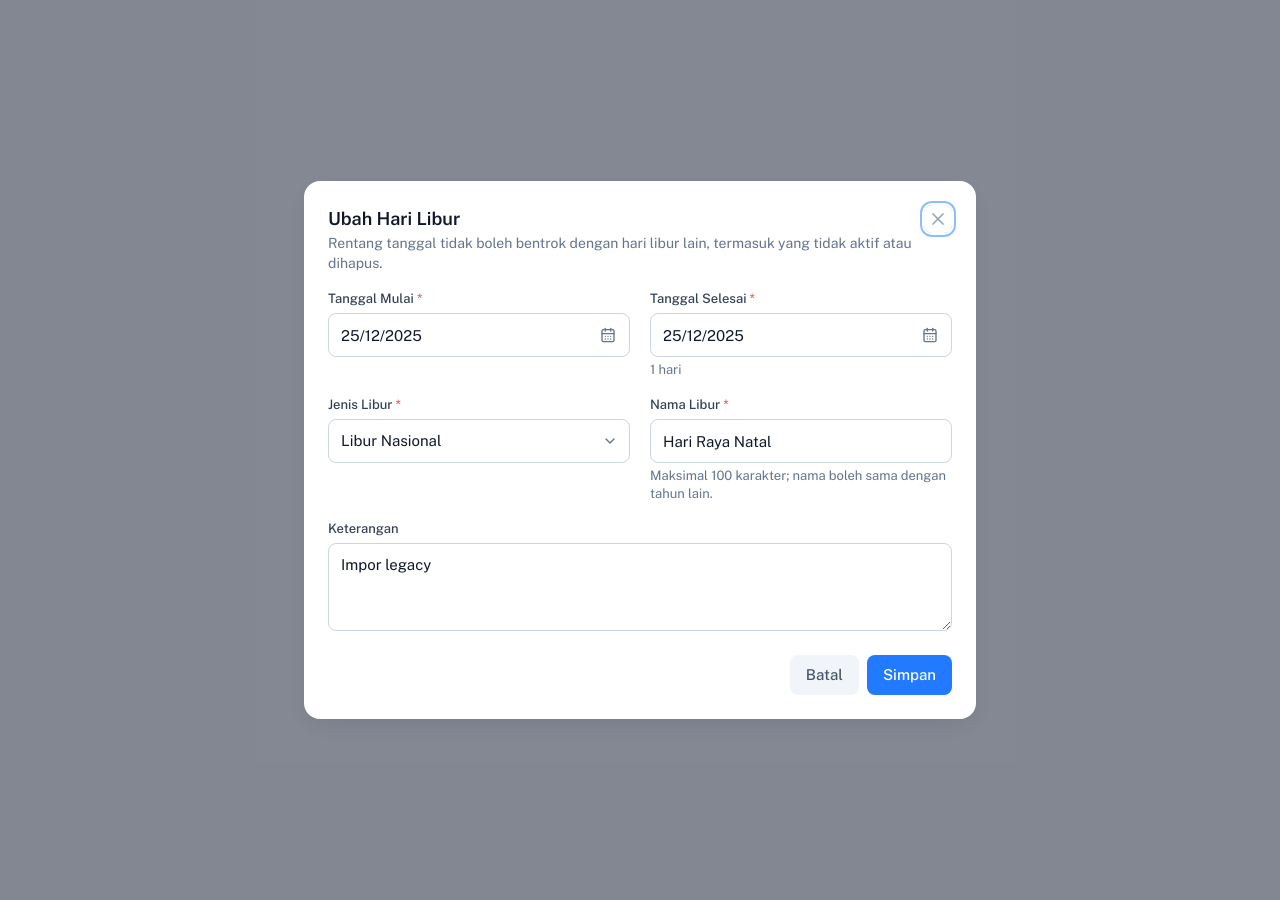
Test: HariLiburFormDialog › klik Simpan beruntun selama validasi masih berjalan: tombol terkunci, update terkirim sekali
Click the submit button at {"x": 909, "y": 675}, box [867,655,952,695]
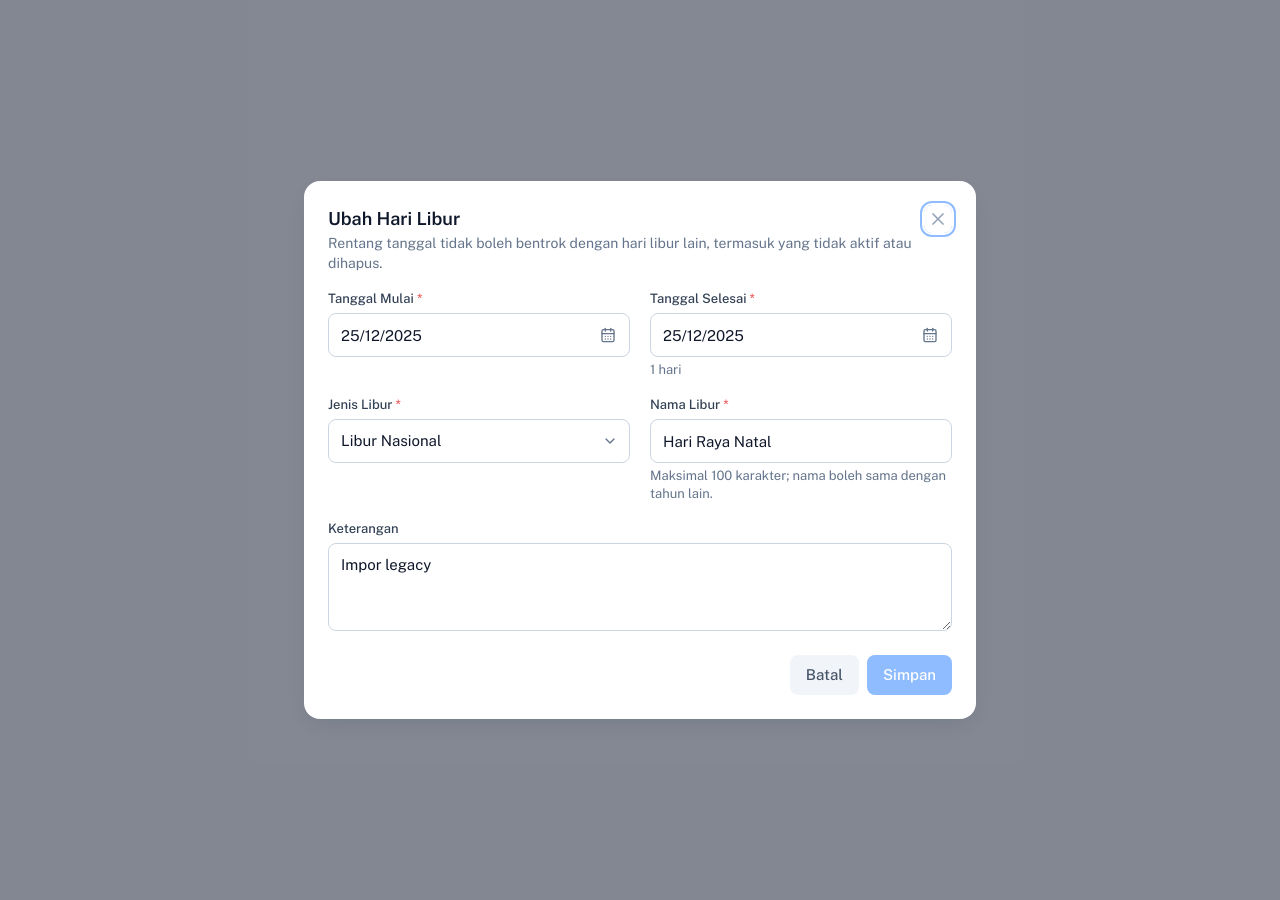
Expected: the submit button is disabled
Click the submit button at {"x": 909, "y": 675}, box [867,655,952,695]
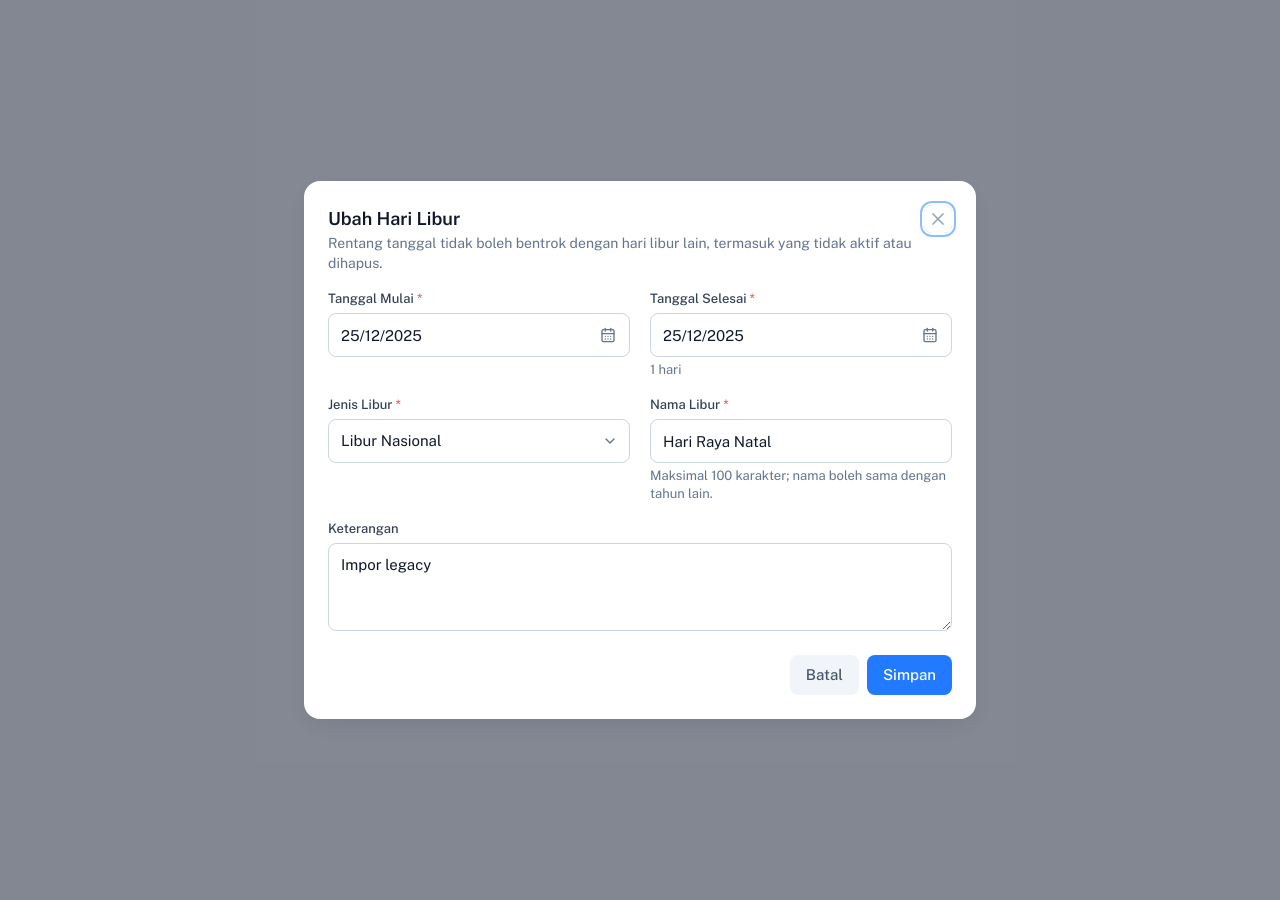
Expected: the submit button is enabled, [867,655,952,695]
